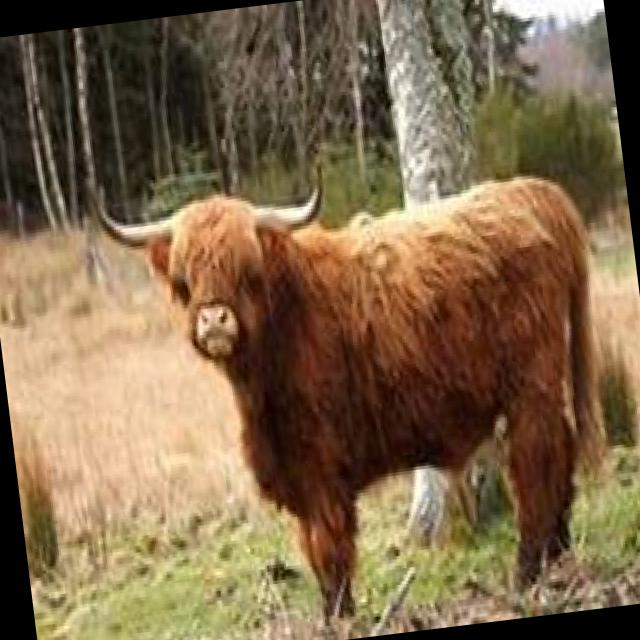animal: (81, 114, 634, 640)
